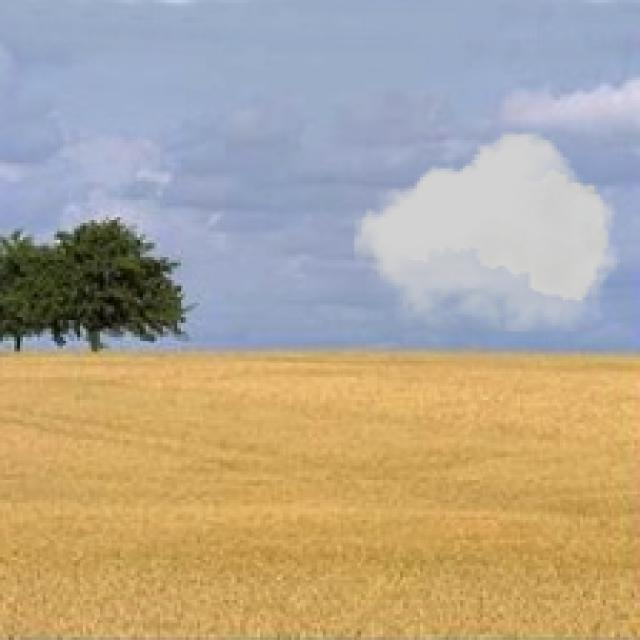smoke: (354, 132, 620, 332)
